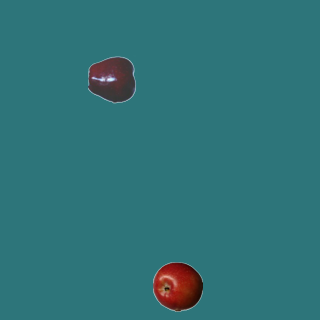Apple Braeburn: (152, 261, 202, 311)
Apple Red Delicious: (87, 54, 137, 104)
